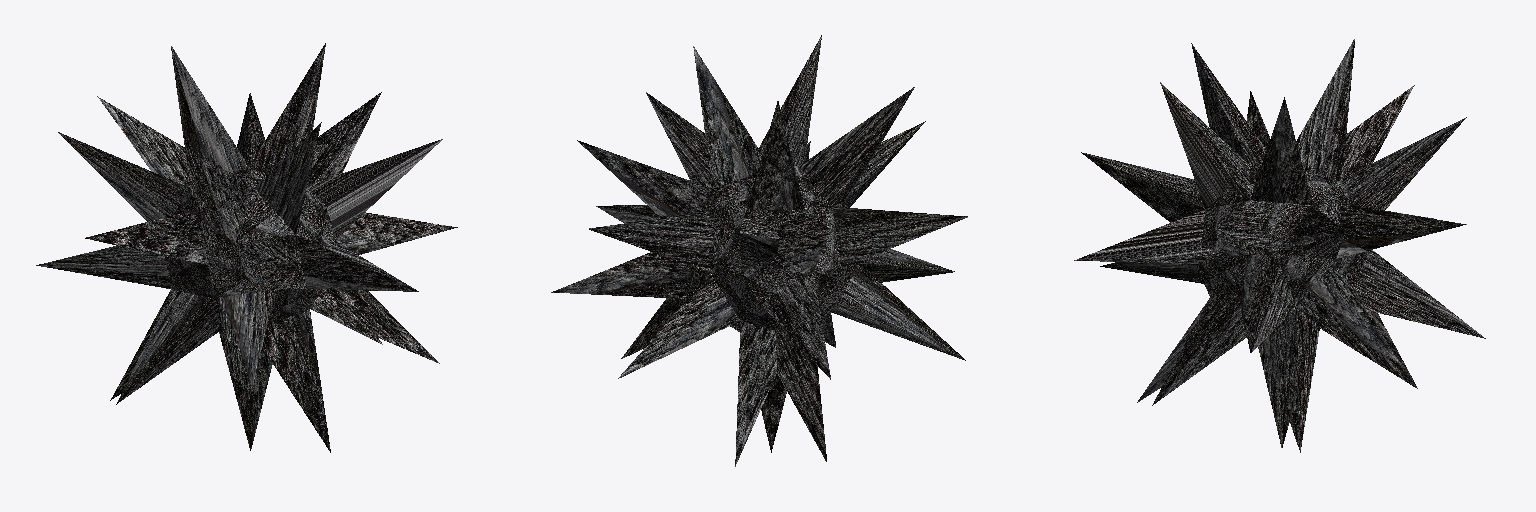
3 views of the same model, side by side, from view 1: azimuth 30°, elevation 25°; view 2: azimuth 150°, elevation 25°; view 3: azimuth 270°, elevation 25° (orthographic).
Visible parts, largest first — view 1: pSolid1; view 2: pSolid1; view 3: pSolid1.
Part boxes in pixels (bbox=[...]): pSolid1: bbox=[36, 43, 457, 452]; pSolid1: bbox=[551, 35, 967, 466]; pSolid1: bbox=[1074, 39, 1485, 452].
Size of the model in its own units: 9.61 by 9.61 by 9.18.
Materials: 1 (1 with a texture image).